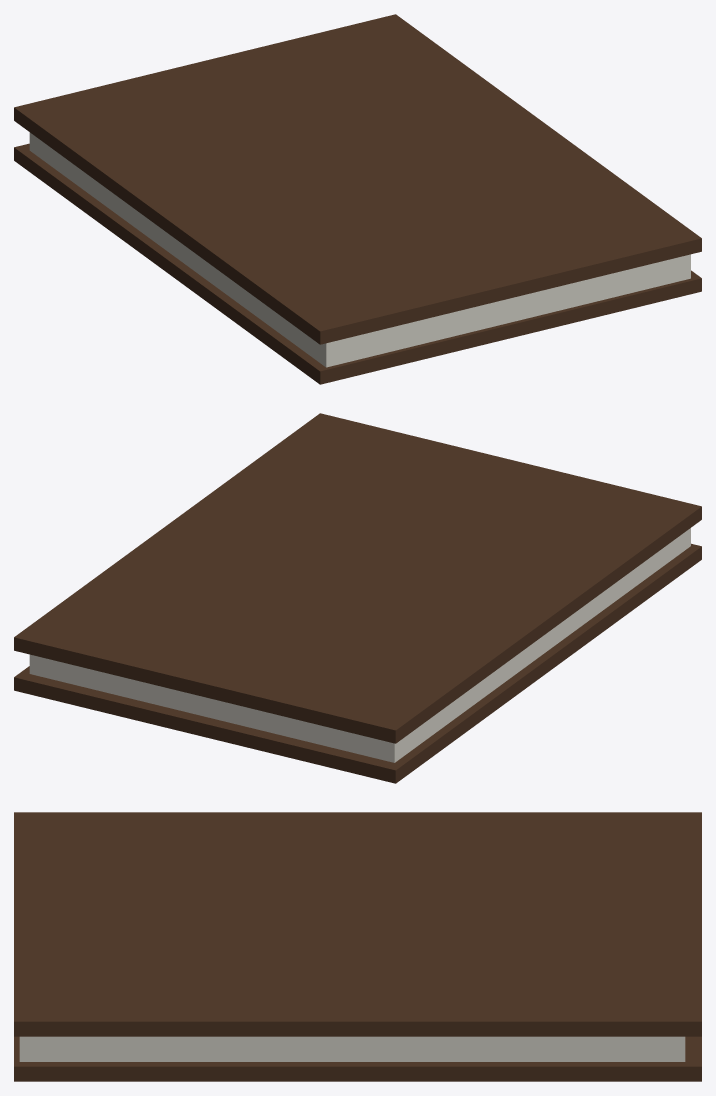
File: PRP_P0_Notebook_A.obj
The picture shows the model from 3 angles, top to bottom: view 1: azimuth 30°, elevation 25°; view 2: azimuth 150°, elevation 25°; view 3: azimuth 270°, elevation 25°; orthographic projection. The views are drawn at different scales.
Visible parts, largest first — view 1: cover_top, pages, cover; view 2: cover_top, cover, pages; view 3: cover_top, pages, cover.
Boxes of the visible parts, x1=… form: cover_top: x1=14, y1=14, x2=701, y2=344; pages: x1=29, y1=132, x2=690, y2=367; cover: x1=14, y1=143, x2=701, y2=384; cover_top: x1=14, y1=413, x2=701, y2=743; cover: x1=14, y1=543, x2=701, y2=783; pages: x1=29, y1=528, x2=690, y2=762; cover_top: x1=14, y1=812, x2=701, y2=1036; pages: x1=19, y1=1036, x2=685, y2=1061; cover: x1=14, y1=1036, x2=701, y2=1081.
Bounding box in the file's own units: 0.18 × 0.024 × 0.25.
